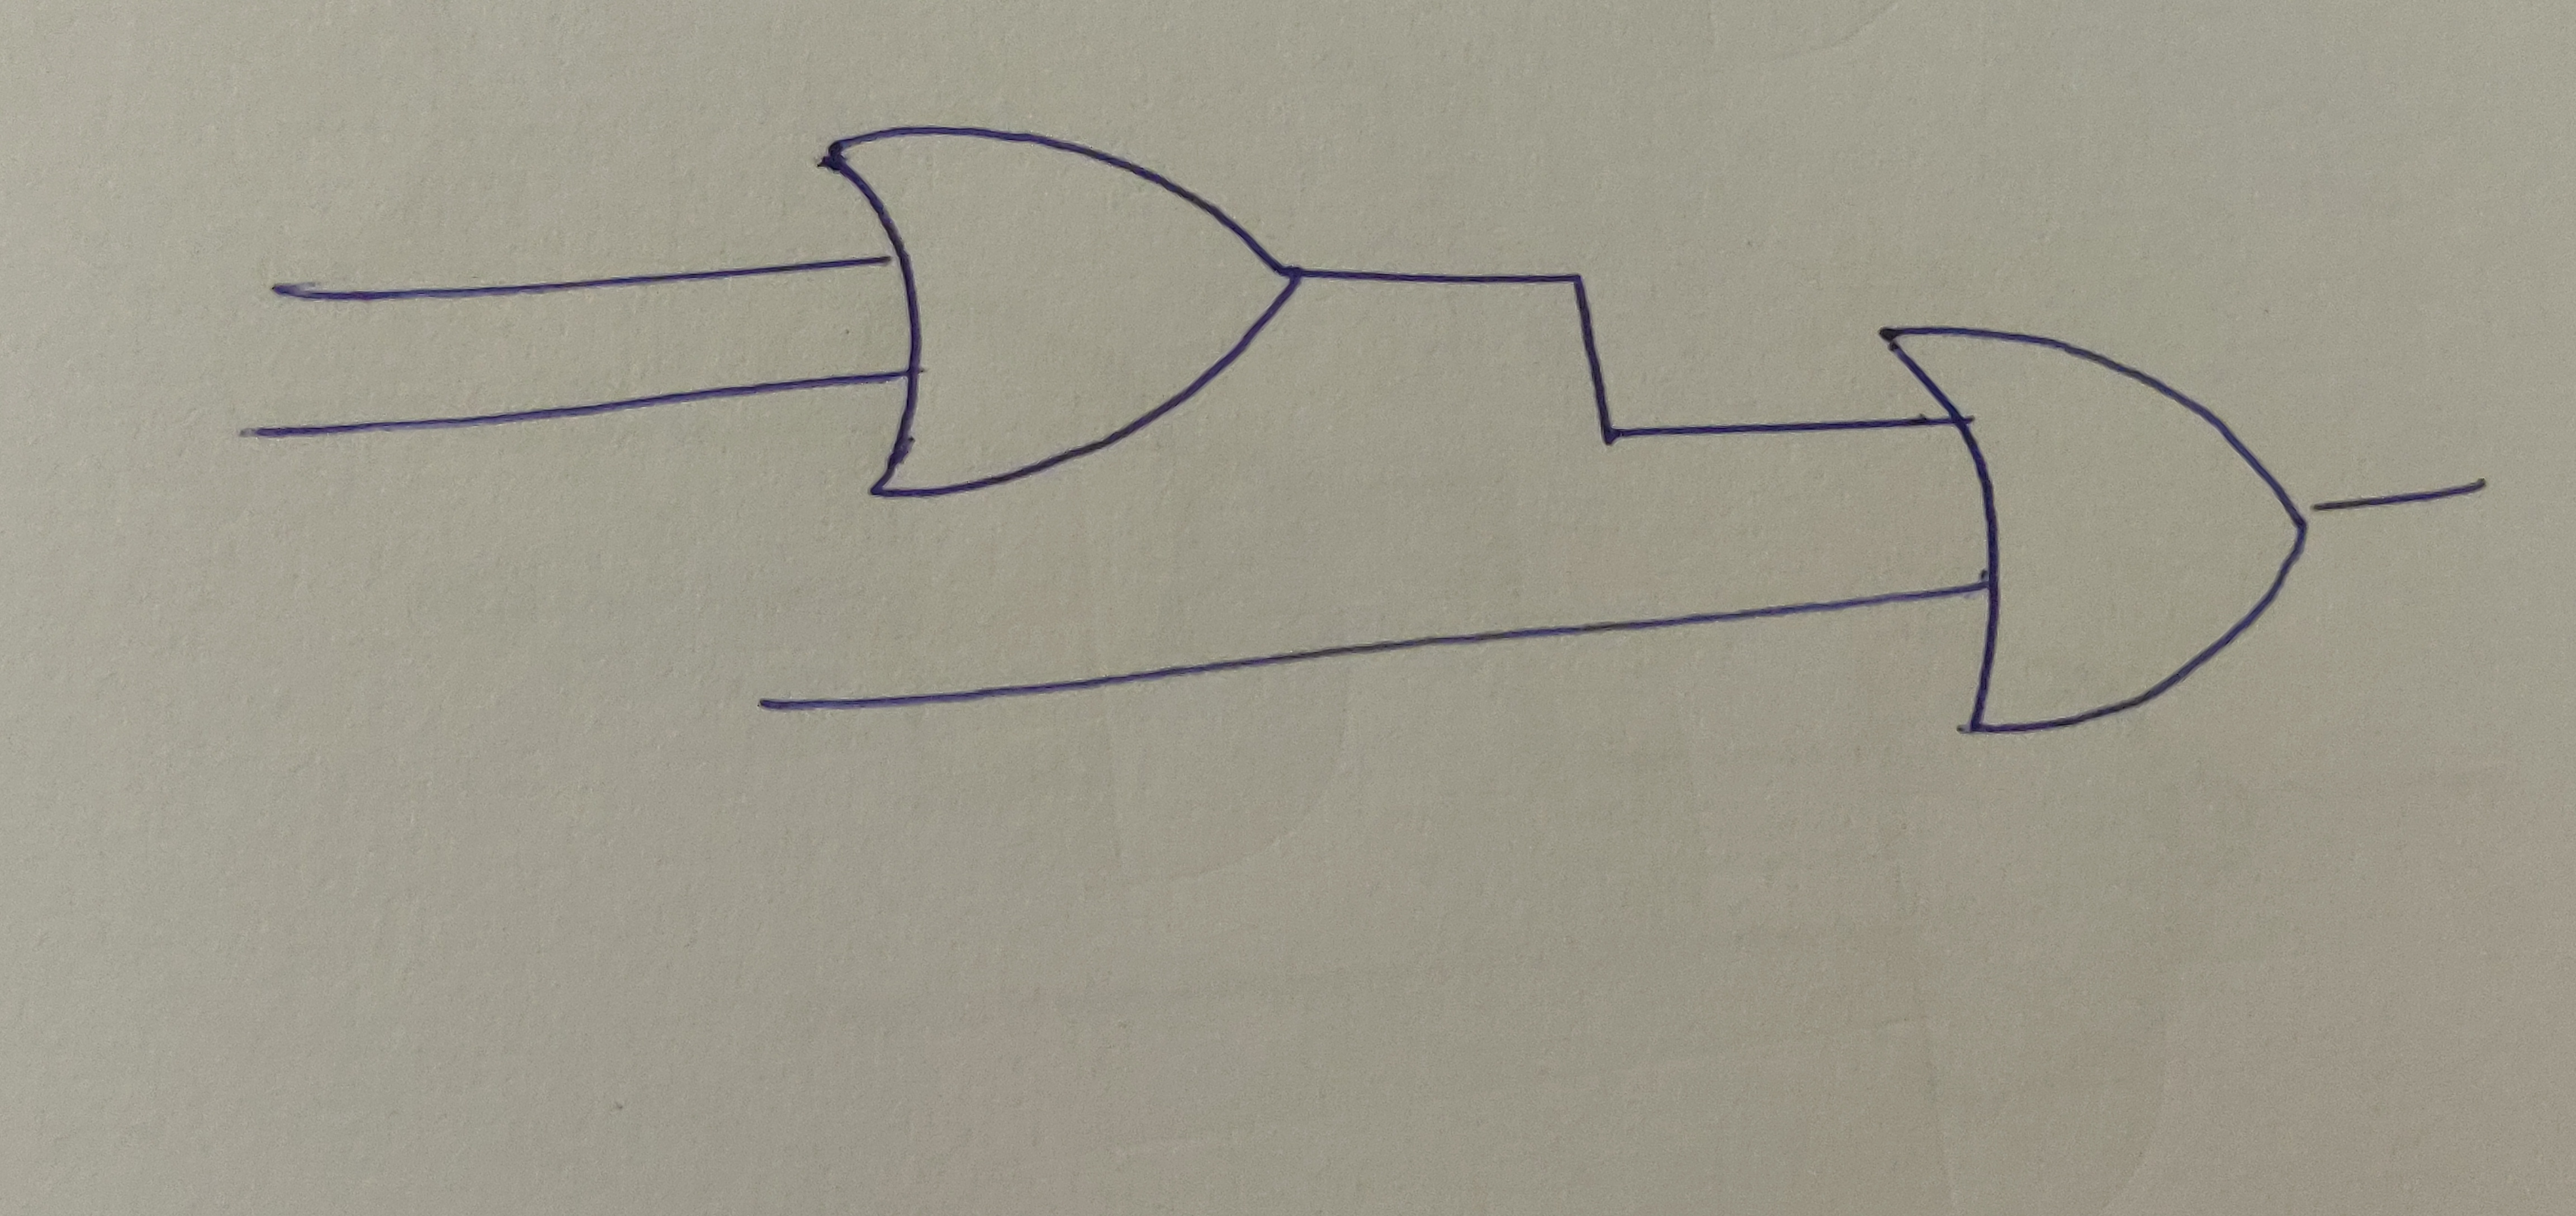or: (1871, 317, 2315, 736), (808, 128, 1296, 501)
